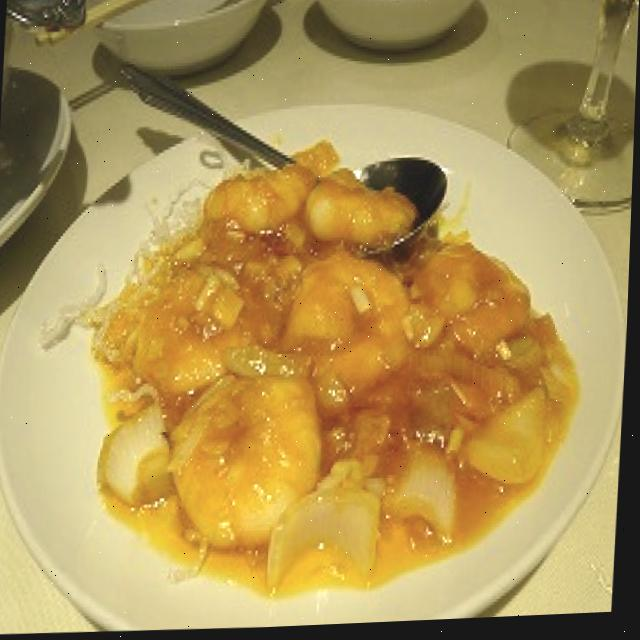熟制海鲜: (0, 107, 636, 640)
